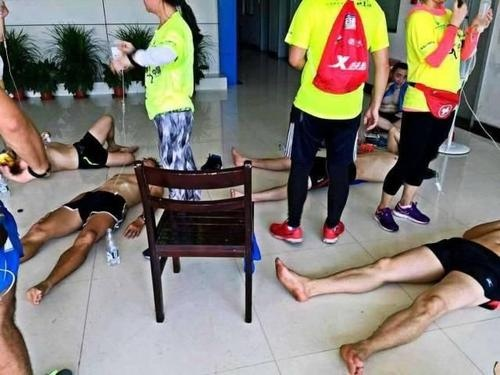falling: (217, 123, 390, 214)
